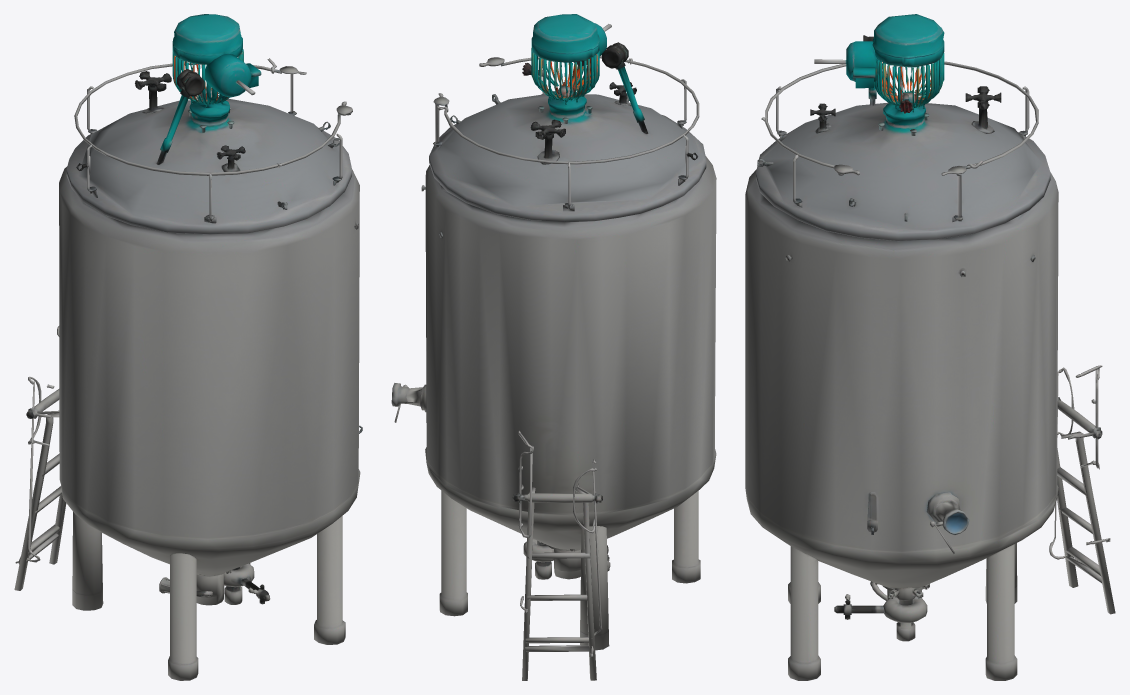
The picture shows the model from 3 angles, left to right: view 1: azimuth 30°, elevation 25°; view 2: azimuth 150°, elevation 25°; view 3: azimuth 270°, elevation 25°; orthographic projection. The views are drawn at different scales.
Parts seen in each view (by area): view 1: tripo_node_6bb875b6-3fba-47d6-9c04-d509bdaf7ef0; view 2: tripo_node_6bb875b6-3fba-47d6-9c04-d509bdaf7ef0; view 3: tripo_node_6bb875b6-3fba-47d6-9c04-d509bdaf7ef0.
Boxes of the visible parts, x1=… form: tripo_node_6bb875b6-3fba-47d6-9c04-d509bdaf7ef0: x1=14, y1=14, x2=362, y2=680; tripo_node_6bb875b6-3fba-47d6-9c04-d509bdaf7ef0: x1=391, y1=14, x2=716, y2=680; tripo_node_6bb875b6-3fba-47d6-9c04-d509bdaf7ef0: x1=745, y1=14, x2=1115, y2=680.
Bounding box in the file's own units: 0.5137 × 0.998 × 0.5449.
1 material, 1 textured.
